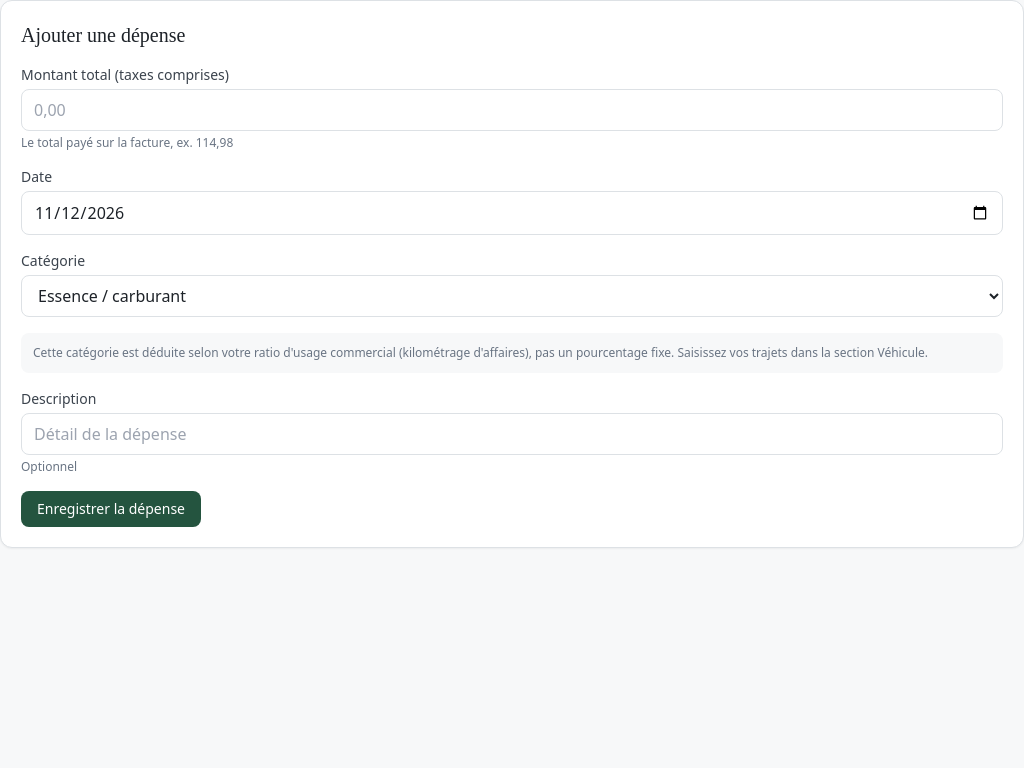
ExpenseForm › pré-remplit le % déductible quand on change de catégorie
Select "Repas et représentation" in the dropdown labelled "Catégorie": (512, 296) [21,275,1003,317]
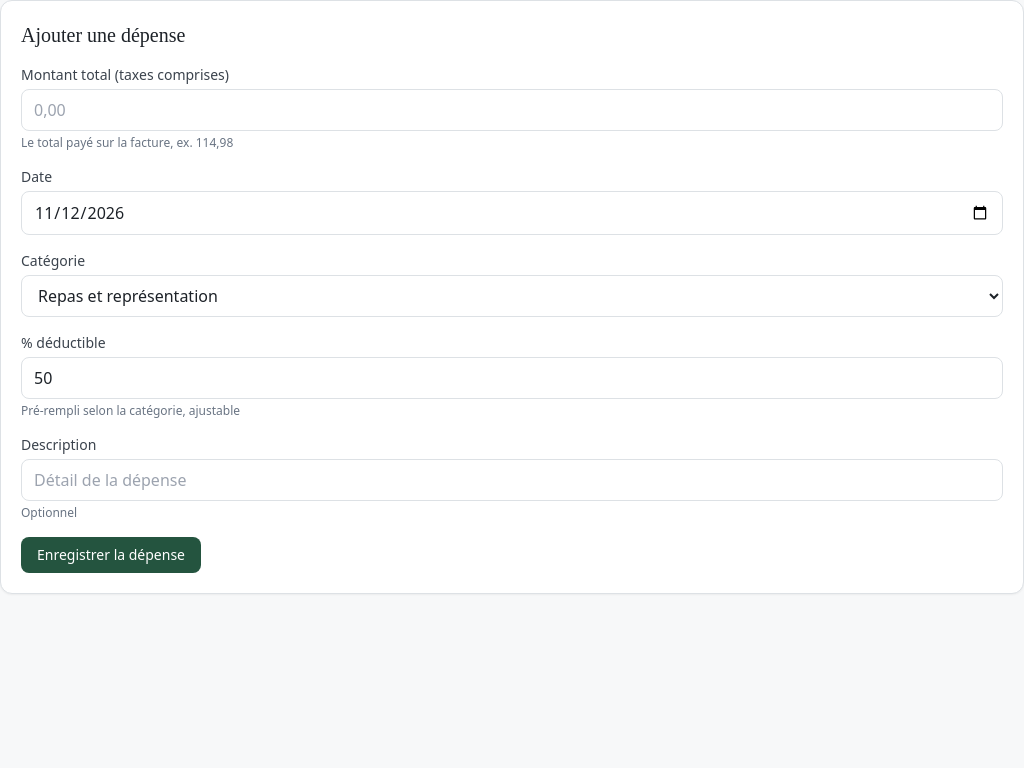
Expected: the field labelled "% déductible" holds "50", [21,357,1003,399]
Select "Fournitures de bureau / logiciels" in the dropdown labelled "Catégorie": (512, 296) [21,275,1003,317]
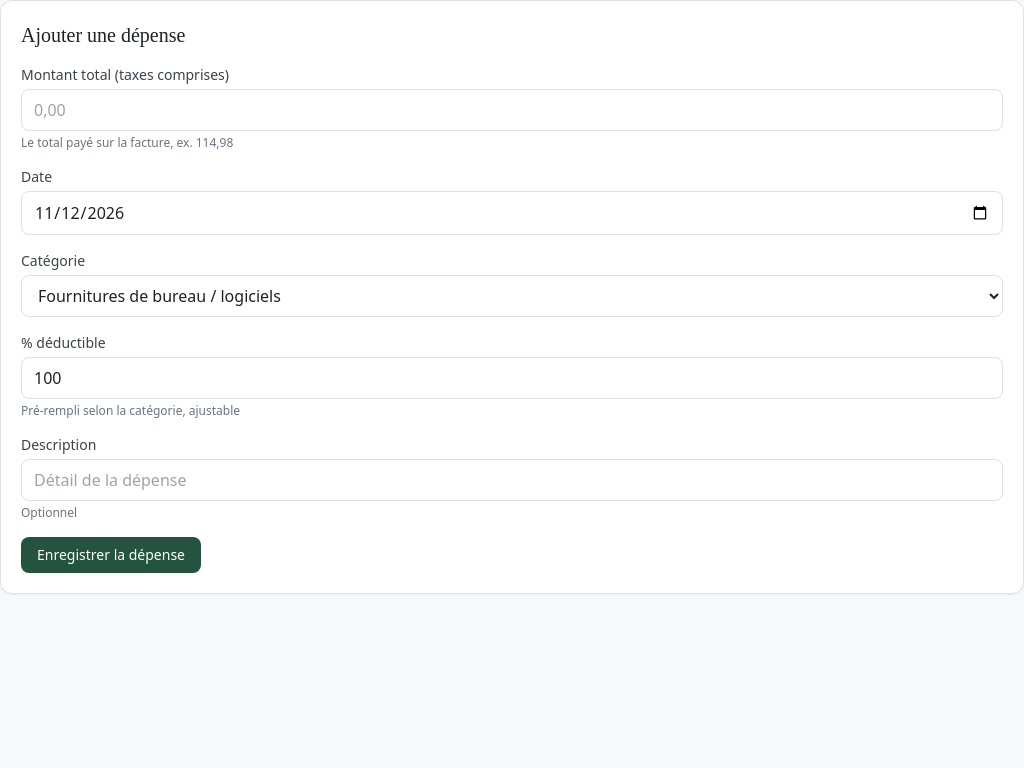
Expected: the field labelled "% déductible" holds "100", [21,357,1003,399]
